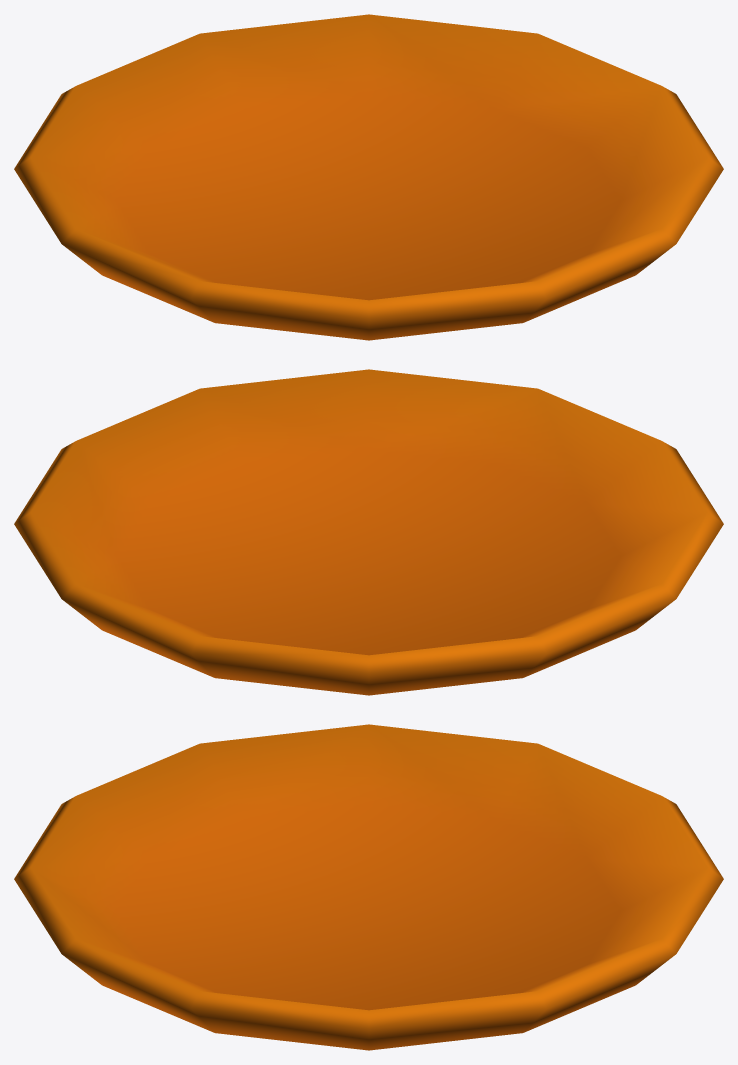
File: Dish1.fbx
The picture shows the model from 3 angles, top to bottom: view 1: azimuth 30°, elevation 25°; view 2: azimuth 150°, elevation 25°; view 3: azimuth 270°, elevation 25°; orthographic projection.
Visible parts, largest first — view 1: Dish1; view 2: Dish1; view 3: Dish1.
Boxes of the visible parts, x1,y1,x2,y2 form: Dish1: [14, 14, 723, 340]; Dish1: [14, 369, 723, 695]; Dish1: [14, 724, 723, 1050].
Bounding box in the file's own units: 13.71 × 1.49 × 13.71.
